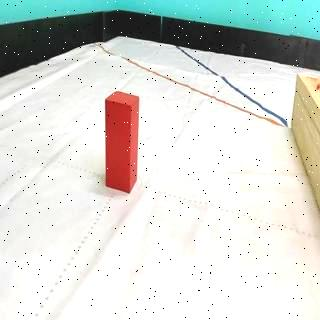redbox: (106, 90, 140, 194)
